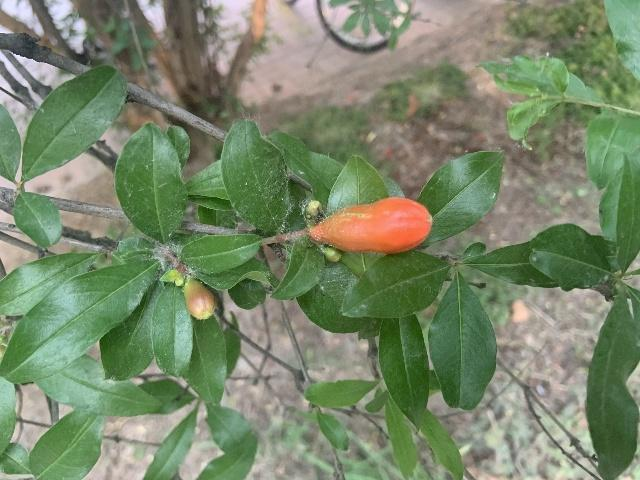bud: (311, 197, 431, 254), (183, 279, 215, 320)
